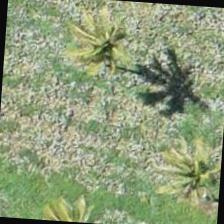Kelapa_Sawit: (42, 0, 139, 91), (132, 128, 222, 224)
